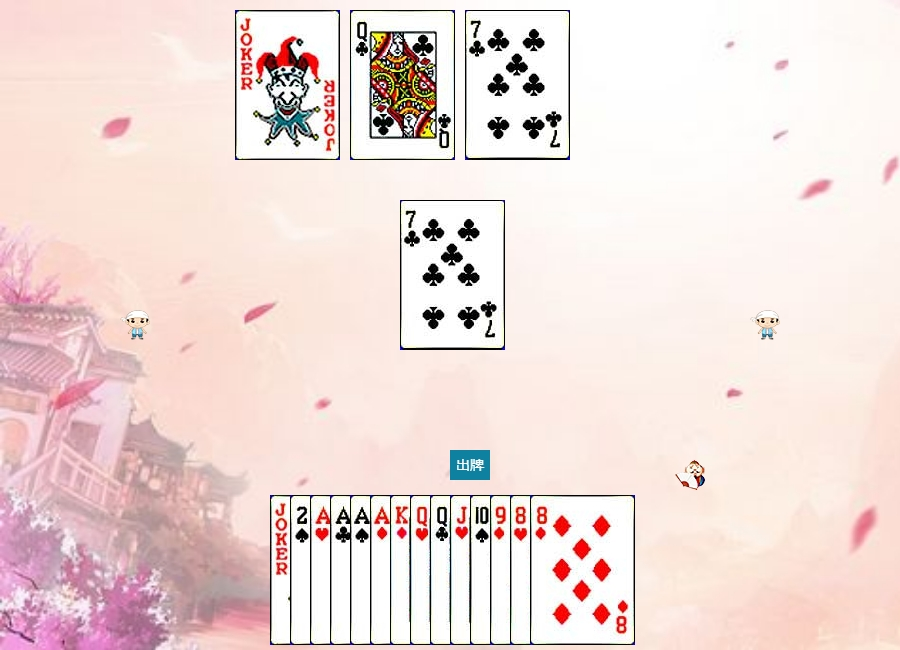10~4: (470, 495, 575, 645)
11~3: (450, 495, 555, 645)
12~2: (350, 10, 455, 160), (430, 495, 535, 645)
12~3: (410, 495, 515, 645)
13~1: (390, 495, 495, 645)
14~1: (370, 495, 475, 645)
14~2: (330, 495, 435, 645)
14~3: (310, 495, 415, 645)
14~4: (350, 495, 455, 645)
15~4: (290, 495, 395, 645)
18~4: (235, 10, 340, 160), (270, 495, 375, 645)
7~2: (465, 10, 570, 160), (400, 200, 505, 350)
8~1: (530, 495, 635, 645)
8~3: (510, 495, 615, 645)
9~1: (490, 495, 595, 645)
